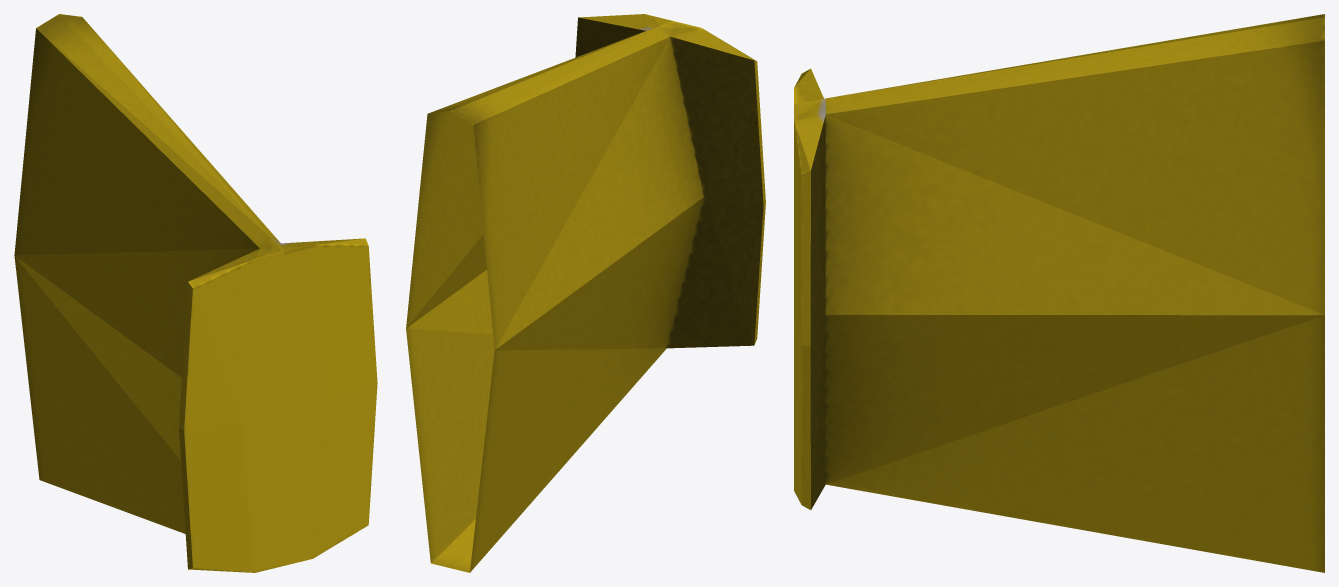
Rendered from Nautilus-Glider-TopRudder.dae.
3 views of the same model, side by side, from view 1: azimuth 30°, elevation 25°; view 2: azimuth 150°, elevation 25°; view 3: azimuth 270°, elevation 25° (orthographic). The views are drawn at different scales.
Visible parts, largest first — view 1: node; view 2: node; view 3: node.
Part boxes in pixels (left/top/right/bottom): node: left=14, top=14, right=377, bottom=572; node: left=406, top=14, right=765, bottom=572; node: left=794, top=14, right=1324, bottom=572.
Size of the model in its own units: 0.1431 by 0.3214 by 0.2839.
1 material, 1 textured.
